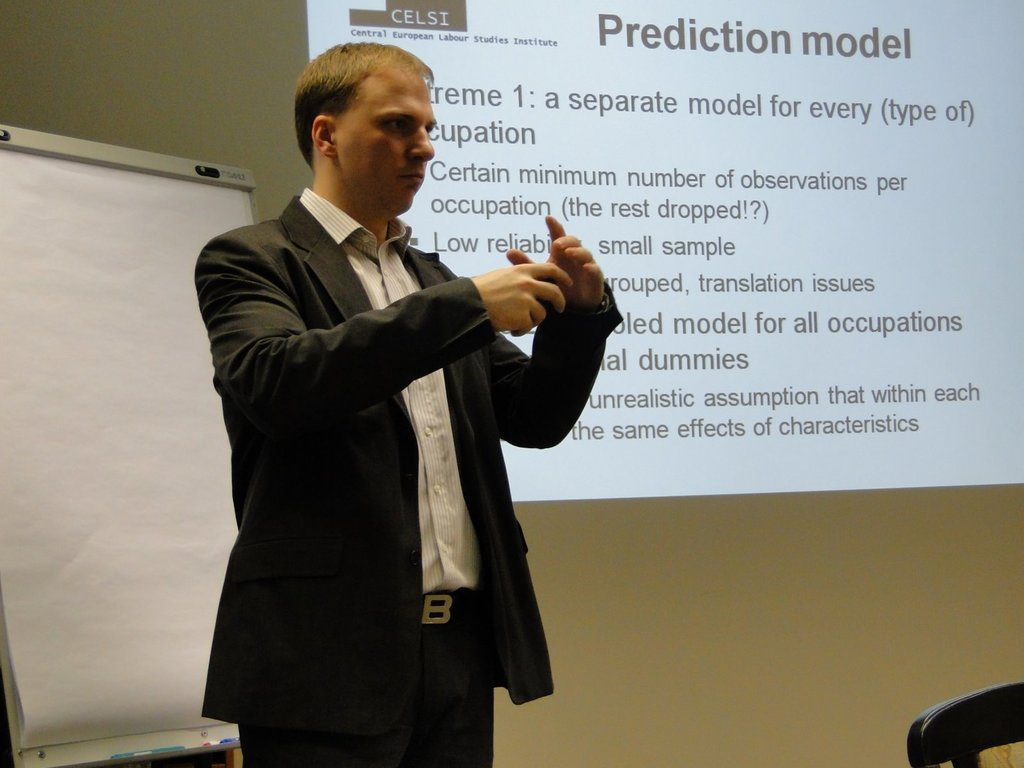Person: (194, 42, 624, 768)
